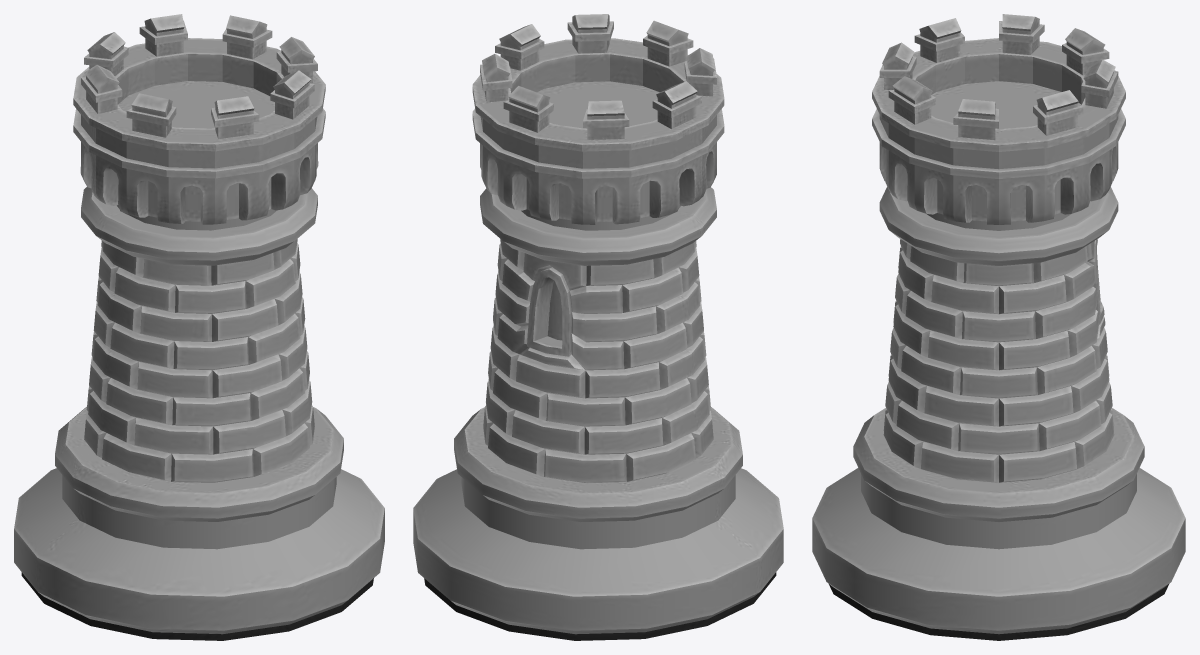
3 renders of one model, left to right at view 1: azimuth 30°, elevation 25°; view 2: azimuth 150°, elevation 25°; view 3: azimuth 270°, elevation 25°, orthographic.
Visible parts, largest first — view 1: Object_38.001; view 2: Object_38.001; view 3: Object_38.001.
Boxes of the visible parts, x1,y1,x2,y2 form: Object_38.001: (14, 14, 384, 640); Object_38.001: (413, 14, 783, 640); Object_38.001: (812, 14, 1185, 640).
Bounding box in the file's own units: 1.05 × 1.58 × 1.05.
1 material, 1 textured.
